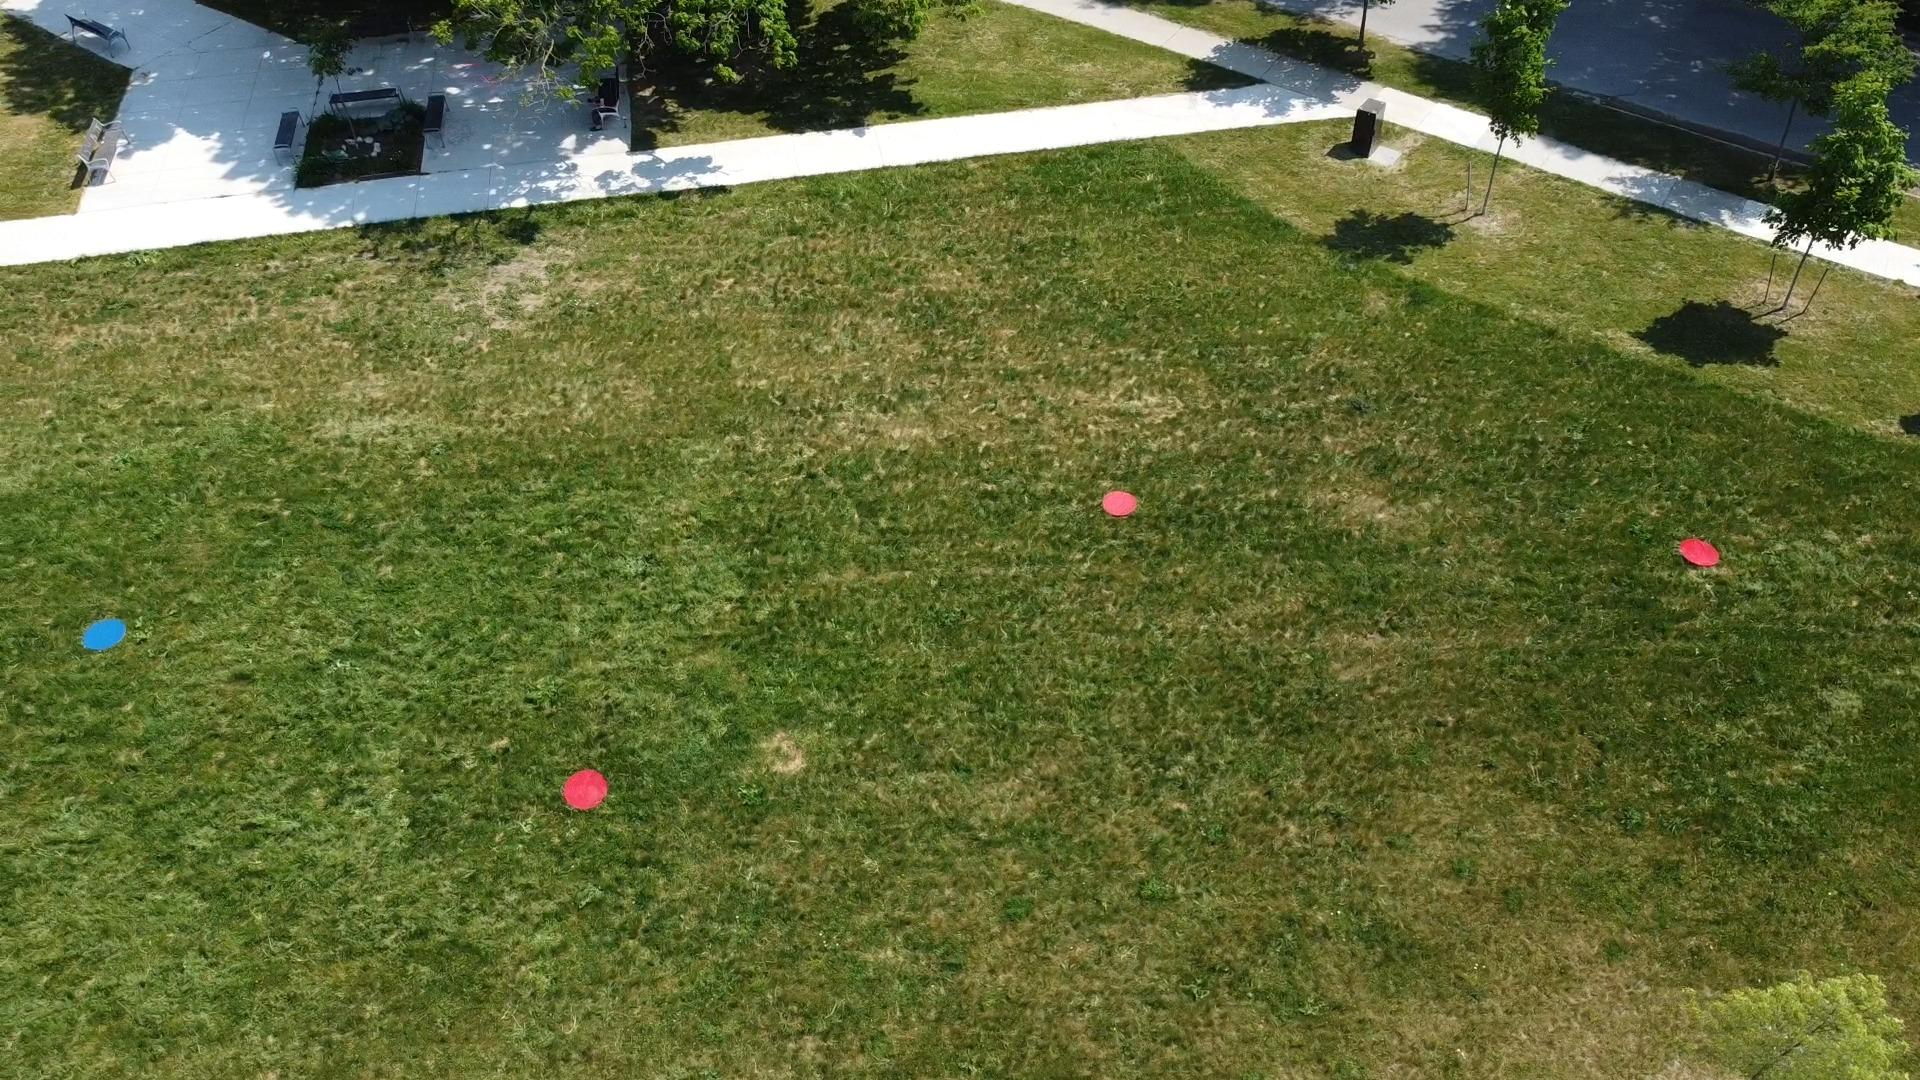Blue: (82, 617, 128, 651)
Red: (562, 767, 609, 811), (1679, 537, 1721, 567), (1100, 489, 1138, 516)
